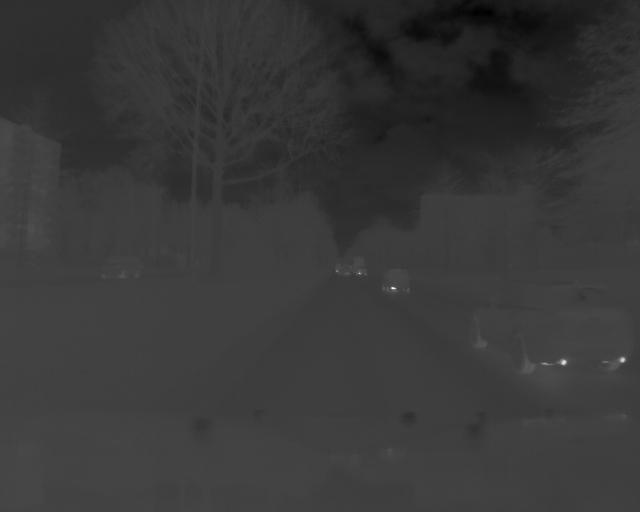car: (454, 279, 637, 375), (103, 256, 159, 280), (378, 262, 411, 297), (356, 256, 368, 276)
